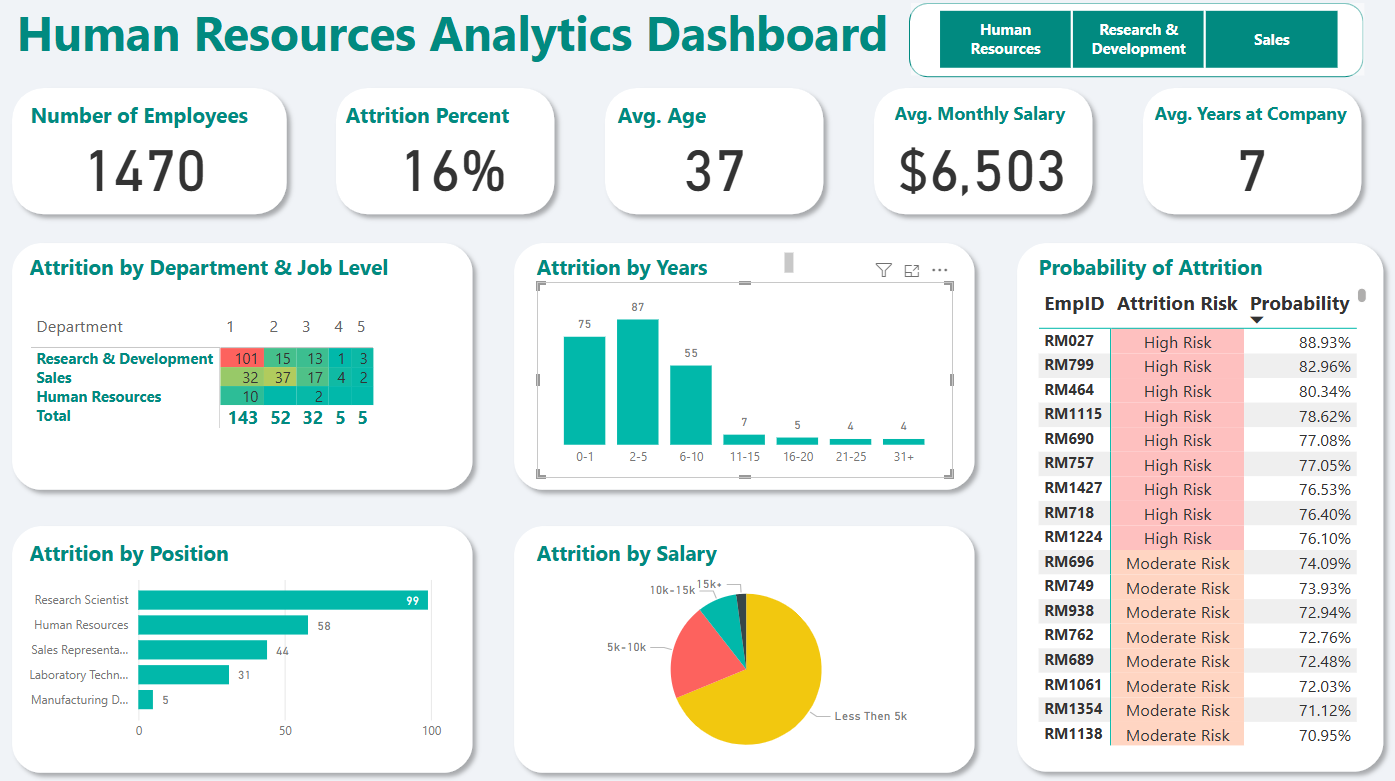

Layout of this report page (visuals, bound fields, positions):
{"tool":"powerbi","page":{"name":"Page 1","canvas":[1280,720],"ordinal":0},"visuals":[{"type":"shape","box":[17.5,88.5,263.6,131.3],"z":0},{"type":"shape","box":[308.1,88.5,214,131.3],"z":1000},{"type":"shape","box":[549.1,88.5,214,131.3],"z":2000},{"type":"shape","box":[790,88.5,214,131.3],"z":3000},{"type":"shape","box":[1031,88.5,214,131.3],"z":4000},{"type":"shape","box":[17.5,227.6,430.9,239.3],"z":5000},{"type":"shape","box":[17.5,480.5,430.9,239.3],"z":6000},{"type":"shape","box":[467.8,227.6,430.9,239.3],"z":7000},{"type":"shape","box":[467.8,481,430.9,239.3],"z":8000},{"type":"shape","box":[918,227.8,346.2,491.7],"z":9000},{"type":"textbox","box":[38.3,103.8,216.5,39.5],"z":10000},{"type":"textbox","box":[320.3,103.8,168,39.5],"z":11000},{"type":"textbox","box":[563.9,103.8,168,39.5],"z":12000},{"type":"textbox","box":[812,103.8,174.8,39.5],"z":13000},{"type":"textbox","box":[25.9,13.5,828.9,74.4],"z":14000},{"type":"textbox","box":[1045.4,103.8,191.7,39.5],"z":15000},{"type":"shape","box":[830,21.4,407.1,66.5],"z":16000},{"type":"textbox","box":[37.8,239.9,343.4,40.2],"z":17000},{"type":"pivotTable","fields":{"Rows":["Departments.Department"],"Columns":["HR_Data.JobLevel"],"Values":["CountNonNull(HR_Data.JobRole)"]},"box":[38.3,295.5,383.4,128.6],"z":18000},{"type":"slicer","fields":{"Values":["Departments.Department"]},"box":[831.8,21.9,405.6,64.5],"z":19000},{"type":"clusteredColumnChart","fields":{"Y":["CountNonNull(HR_Data.EmpID)"],"Category":["HR_Data.YearsAtCompany_Group"]},"box":[497.3,271.8,372.2,174.8],"z":20000},{"type":"textbox","box":[492,239.9,239.9,40.2],"z":21000},{"type":"clusteredBarChart","fields":{"Category":["Jobs.JobRole"],"Y":["CountNonNull(HR_Data.EmpID)"]},"box":[25.9,525.5,406,165.8],"z":22000},{"type":"textbox","box":[37.8,495.7,216.8,39],"z":23000},{"type":"card","fields":{"Values":["CountNonNull(HR_Data.EmpID)"]},"box":[75.6,124.1,141,82.3],"z":24000},{"type":"card","fields":{"Values":["Departments.Attrition_rate"]},"box":[350.7,124.1,141,82.3],"z":25000},{"type":"card","fields":{"Values":["Avg(HR_Data.Age)"]},"box":[585.3,124.1,141,82.3],"z":26000},{"type":"card","fields":{"Values":["Avg(HR_Data.MonthlyIncome)"]},"box":[804.1,124.1,183.8,82.3],"z":27000},{"type":"card","fields":{"Values":["Avg(HR_Data.YearsAtCompany)"]},"box":[1045.4,124.1,183.8,82.3],"z":28000},{"type":"pieChart","fields":{"Category":["HR_Data.SalarySlab"],"Y":["Sum(HR_Data.Attrition_count)"]},"box":[498.5,525.5,371,185],"z":29000},{"type":"textbox","box":[492,495.7,192.4,39],"z":30000},{"type":"textbox","box":[941.4,239.9,287.4,39],"z":31000},{"type":"pivotTable","fields":{"Rows":["HR_Data.EmpID"],"Values":["Min(Attrition_Risk.Attrition Risk)","Sum(Attrition_Risk.Attrition_Probability)"]},"box":[941.4,271.6,304.5,420.2],"z":32000}]}

Visuals, with their boxes in screenshot pixels (x1, y1, x2, y2), scaled from the page's 1280x720 canvas onto the 1395x781 screenshot:
shape: region(19, 96, 306, 238)
shape: region(336, 96, 569, 238)
shape: region(598, 96, 832, 238)
shape: region(861, 96, 1094, 238)
shape: region(1124, 96, 1357, 238)
shape: region(19, 247, 489, 506)
shape: region(19, 521, 489, 780)
shape: region(510, 247, 979, 506)
shape: region(510, 522, 979, 780)
shape: region(1000, 247, 1378, 780)
textbox: region(42, 113, 278, 155)
textbox: region(349, 113, 532, 155)
textbox: region(615, 113, 798, 155)
textbox: region(885, 113, 1075, 155)
textbox: region(28, 15, 932, 95)
textbox: region(1139, 113, 1348, 155)
shape: region(905, 23, 1348, 95)
textbox: region(41, 260, 415, 304)
pivotTable - Departments.Department x HR_Data.JobLevel: region(42, 321, 460, 460)
slicer - Departments.Department: region(907, 24, 1349, 94)
clusteredColumnChart - CountNonNull(HR_Data.EmpID) x HR_Data.YearsAtCompany_Group: region(542, 295, 948, 484)
textbox: region(536, 260, 798, 304)
clusteredBarChart - Jobs.JobRole x CountNonNull(HR_Data.EmpID): region(28, 570, 471, 750)
textbox: region(41, 538, 277, 580)
card - CountNonNull(HR_Data.EmpID): region(82, 135, 236, 224)
card - Departments.Attrition_rate: region(382, 135, 536, 224)
card - Avg(HR_Data.Age): region(638, 135, 792, 224)
card - Avg(HR_Data.MonthlyIncome): region(876, 135, 1077, 224)
card - Avg(HR_Data.YearsAtCompany): region(1139, 135, 1340, 224)
pieChart - HR_Data.SalarySlab x Sum(HR_Data.Attrition_count): region(543, 570, 948, 771)
textbox: region(536, 538, 746, 580)
textbox: region(1026, 260, 1339, 303)
pivotTable - HR_Data.EmpID x Min(Attrition_Risk.Attrition Risk): region(1026, 295, 1358, 750)
